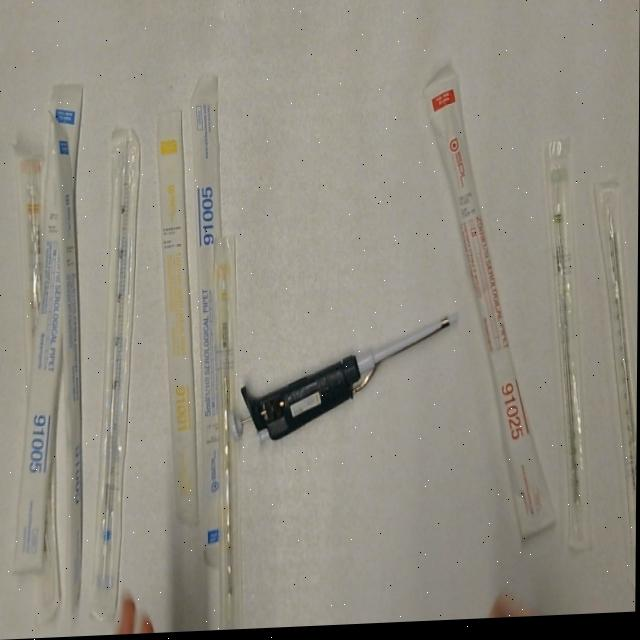Serelogical Pipet 1 mL: (150, 102, 205, 535), (208, 231, 249, 633)
Serelogical Pipet 10 mL: (12, 140, 55, 381)
Serelogical Pipet 2 mL: (541, 136, 605, 564)
Serelogical Pipet 25 mL: (419, 67, 562, 560)
Serelogical Pipet 5 mL: (12, 76, 88, 580), (86, 125, 146, 628), (185, 68, 244, 575), (44, 109, 91, 615)
Single Channel Pipettor: (225, 314, 464, 452)
